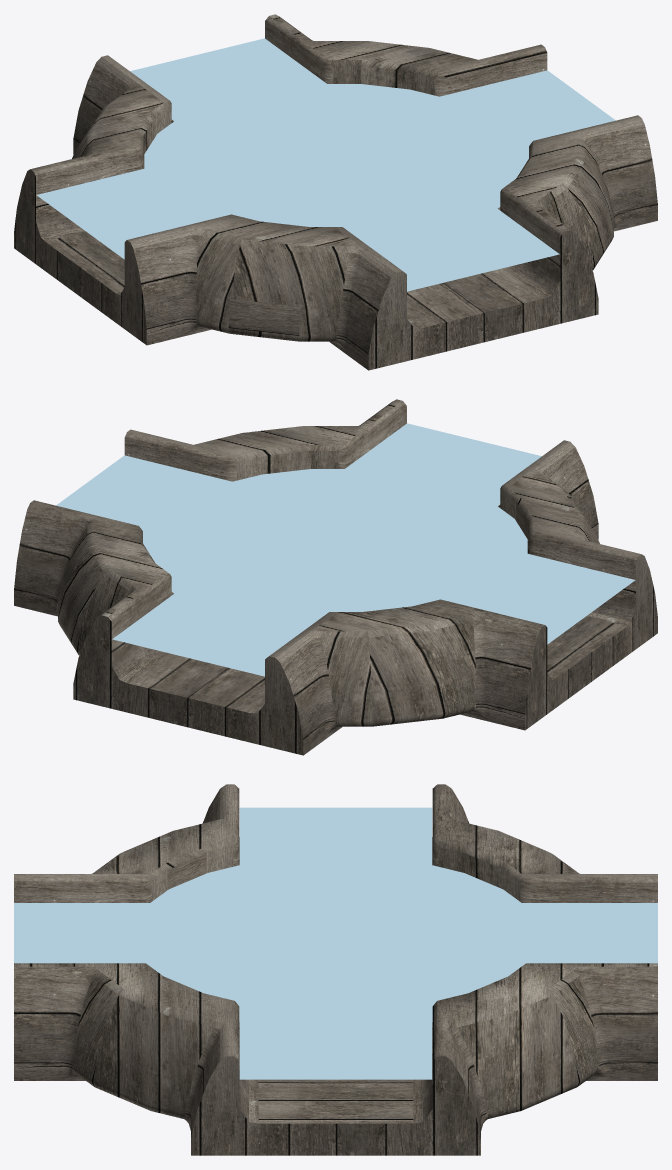
File: reservoir.glb
The picture shows the model from 3 angles, top to bottom: view 1: azimuth 30°, elevation 25°; view 2: azimuth 150°, elevation 25°; view 3: azimuth 270°, elevation 25°; orthographic projection. The views are drawn at different scales.
Parts seen in each view (by area): view 1: Channel, Water; view 2: Channel, Water; view 3: Channel, Water.
Part boxes in pixels (<box>): Channel: <box>14,14,657,370</box>; Water: <box>36,38,615,291</box>; Channel: <box>14,399,657,755</box>; Water: <box>56,423,635,676</box>; Channel: <box>14,784,657,1155</box>; Water: <box>14,807,657,1079</box>.
Size of the model in its own units: 2 by 0.34 by 2.
2 materials, 1 textured.
